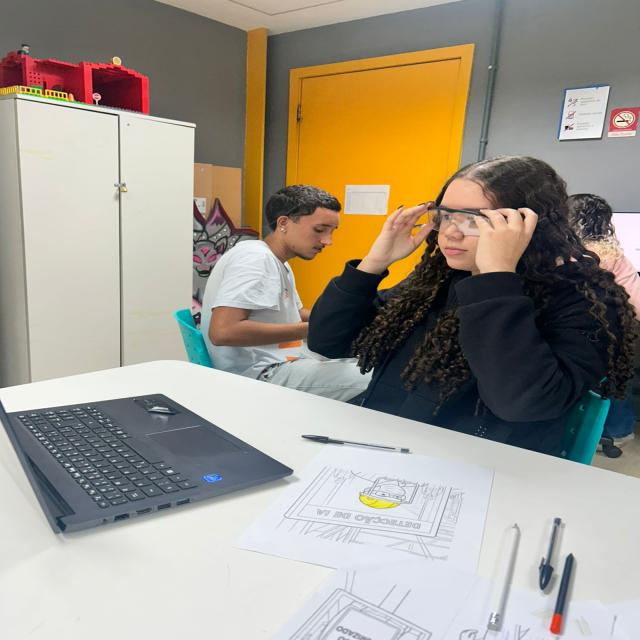oculos-epi: (427, 206, 490, 236)
sem_oculos: (281, 212, 338, 234)
